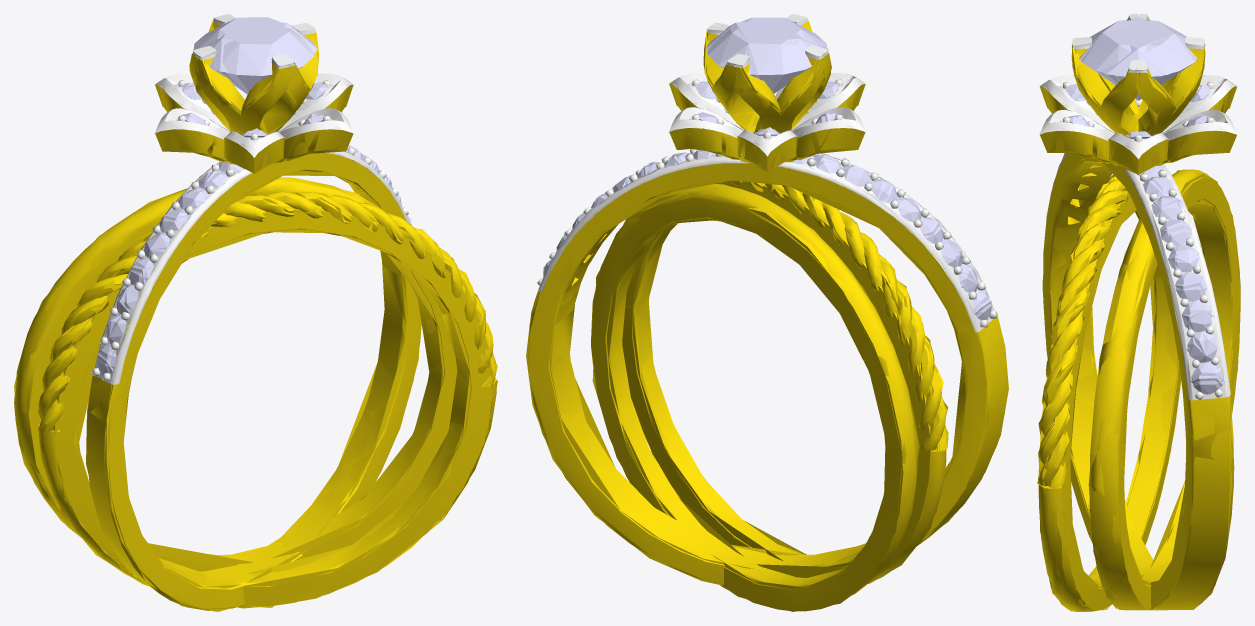
The model's file is DLR-D000684438.glb.
The picture shows the model from 3 angles, left to right: view 1: azimuth 30°, elevation 25°; view 2: azimuth 150°, elevation 25°; view 3: azimuth 270°, elevation 25°; orthographic projection.
Parts seen in each view (by area): view 1: highPolyMesh, lowPolyMesh; view 2: highPolyMesh, lowPolyMesh; view 3: highPolyMesh, lowPolyMesh.
Part boxes in pixels (x1,y1,x2,y2): highPolyMesh: (14, 14, 496, 610); lowPolyMesh: (14, 14, 497, 611); highPolyMesh: (528, 14, 1007, 611); lowPolyMesh: (526, 14, 1008, 611); highPolyMesh: (1037, 14, 1240, 611); lowPolyMesh: (1037, 14, 1240, 611).
Size of the model in its own units: 0.0195 by 0.0266 by 0.00876.
